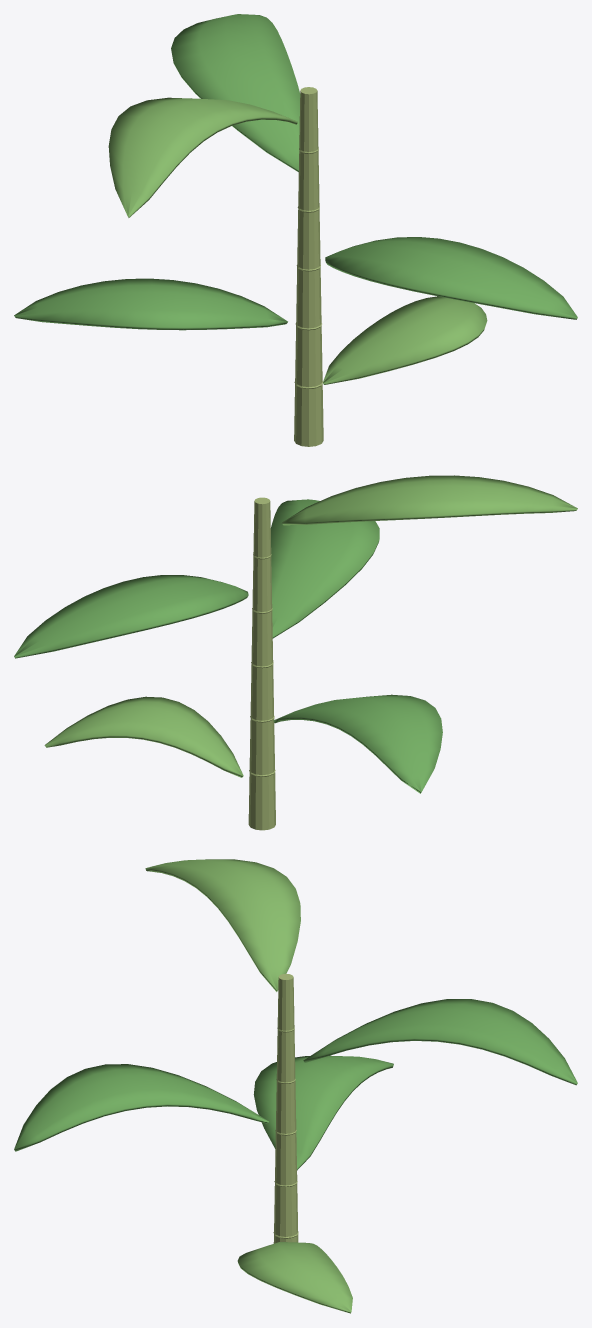
3 renders of one model, top to bottom at view 1: azimuth 30°, elevation 25°; view 2: azimuth 150°, elevation 25°; view 3: azimuth 270°, elevation 25°, orthographic. The views are drawn at different scales.
Visible parts, largest first — view 1: 叶片_04, 叶片_03, 叶片_02, 叶片_05, 叶片_01, 茎节_01, 茎节_02, 茎节_03, 茎节_04, 茎节_05, 茎节_06; view 2: 叶片_04, 叶片_05, 叶片_03, 叶片_02, 叶片_01, 茎节_01, 茎节_02, 茎节_03, 茎节_04, 茎节_05, 茎节_06; view 3: 叶片_04, 叶片_05, 叶片_03, 叶片_02, 叶片_01, 茎节_02, 茎节_03, 茎节_04, 茎节_05, 茎节_06.
Part boxes in pixels (<box>): 叶片_04: <box>171,14,300,172</box>; 叶片_03: <box>325,237,577,319</box>; 叶片_02: <box>14,278,287,330</box>; 叶片_05: <box>108,97,297,217</box>; 叶片_01: <box>323,296,487,384</box>; 茎节_01: <box>294,384,323,446</box>; 茎节_02: <box>295,325,322,386</box>; 茎节_03: <box>296,267,321,328</box>; 茎节_04: <box>297,208,320,269</box>; 茎节_05: <box>298,150,319,210</box>; 茎节_06: <box>299,87,318,151</box>; 叶片_04: <box>14,575,248,658</box>; 叶片_05: <box>282,475,577,525</box>; 叶片_03: <box>270,499,379,638</box>; 叶片_02: <box>273,694,442,793</box>; 叶片_01: <box>44,696,243,777</box>; 茎节_01: <box>248,772,275,830</box>; 茎节_02: <box>249,718,274,775</box>; 茎节_03: <box>250,664,273,720</box>; 茎节_04: <box>251,610,273,666</box>; 茎节_05: <box>252,556,272,611</box>; 茎节_06: <box>253,497,271,557</box>; 叶片_04: <box>303,999,577,1085</box>; 叶片_05: <box>145,859,300,991</box>; 叶片_03: <box>14,1064,268,1151</box>; 叶片_02: <box>253,1055,393,1170</box>; 叶片_01: <box>237,1242,352,1313</box>; 茎节_02: <box>274,1183,298,1236</box>; 茎节_03: <box>275,1131,297,1185</box>; 茎节_04: <box>276,1080,296,1133</box>; 茎节_05: <box>276,1029,295,1082</box>; 茎节_06: <box>277,973,294,1030</box>.
Bounding box in the file's own units: 0.465 × 0.375 × 0.5635.
